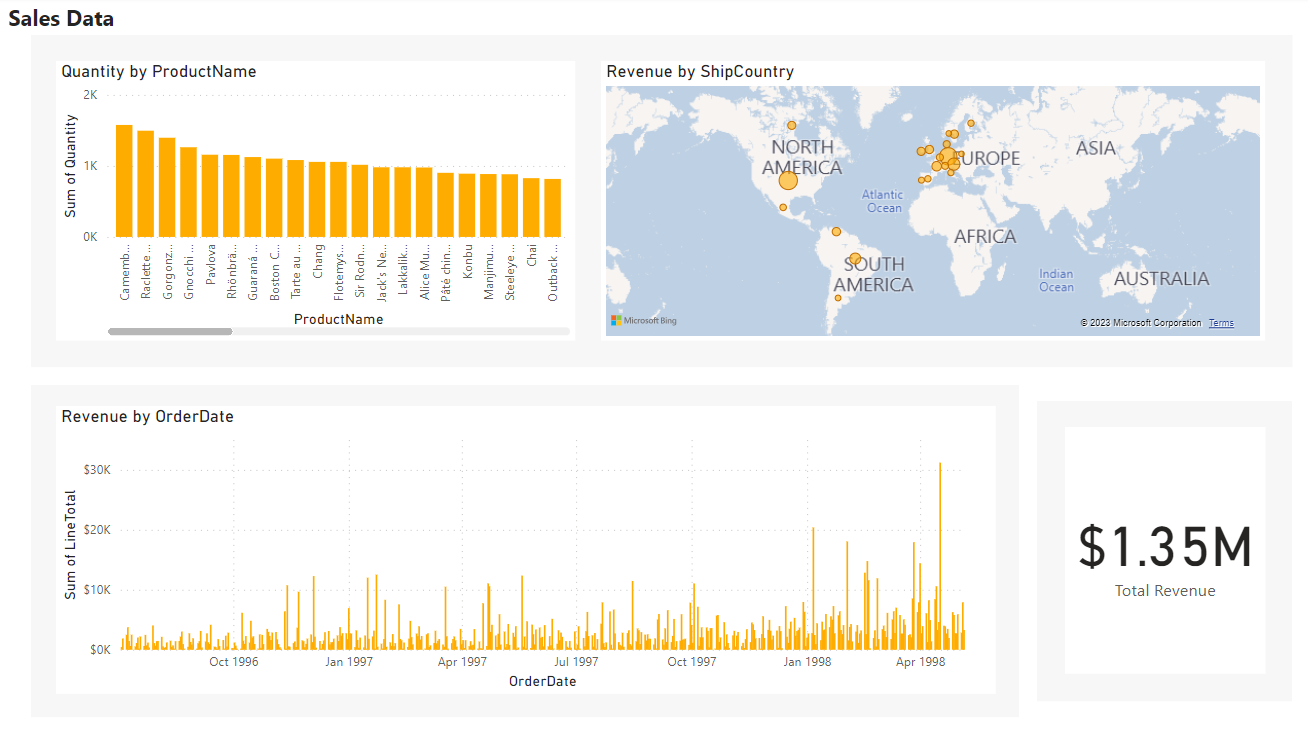

The page's visual inventory and layout, read from the dashboard file:
{"tool":"powerbi","page":{"name":"Page 1","canvas":[1280,720],"ordinal":0},"visuals":[{"type":"textbox","box":[10.7,0,229.5,43.8],"z":0},{"type":"shape","box":[37.9,37,1226.5,322.9],"z":1000},{"type":"shape","box":[37.9,377.4,961,322.9],"z":2000},{"type":"shape","box":[1016.4,392.9,248,291.8],"z":3000},{"type":"clusteredColumnChart","title":"Quantity by ProductName","fields":{"Y":["Sum(Orders.Quantity)"],"Category":["Products.ProductName"]},"box":[62.2,62.2,504.8,272.3],"z":4000},{"type":"card","fields":{"Values":["Sum(Orders.LineTotal)"]},"box":[1043.6,418.2,194.5,240.2],"z":5000},{"type":"clusteredColumnChart","title":"Revenue by OrderDate","fields":{"Y":["Sum(Orders.LineTotal)"],"Category":["Orders.OrderDate"]},"box":[62.2,397.8,914.3,280.1],"z":6000},{"type":"map","title":"Revenue by ShipCountry","fields":{"Category":["Orders.ShipCountry"],"Size":["Sum(Orders.LineTotal)"]},"box":[592.3,62.2,645.8,272.3],"z":7000}]}

Visuals, with their boxes in screenshot pixels (x1, y1, x2, y2), scaled from the page's 1280x720 canvas onto the 1308x733 screenshot:
textbox: rect(11, 0, 245, 45)
shape: rect(39, 38, 1292, 366)
shape: rect(39, 384, 1021, 713)
shape: rect(1039, 400, 1292, 697)
"Quantity by ProductName" clusteredColumnChart: rect(64, 63, 579, 341)
card - Sum(Orders.LineTotal): rect(1066, 426, 1265, 670)
"Revenue by OrderDate" clusteredColumnChart: rect(64, 405, 998, 690)
"Revenue by ShipCountry" map: rect(605, 63, 1265, 341)
